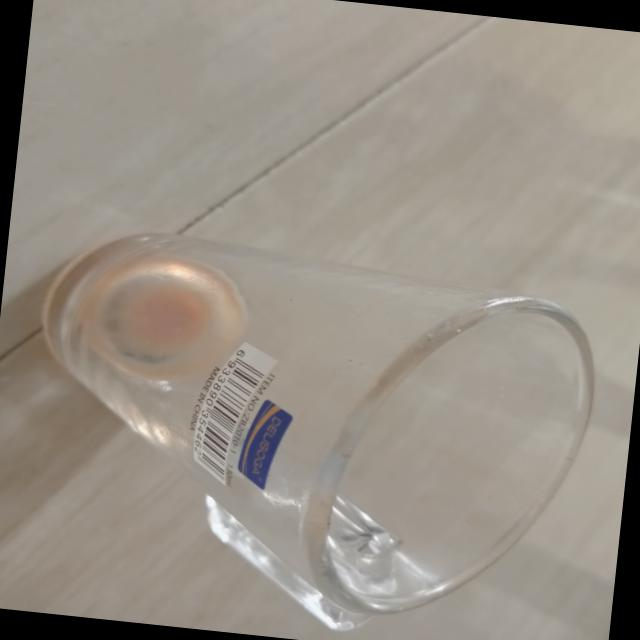glass-VX4N: (6, 220, 606, 640)
